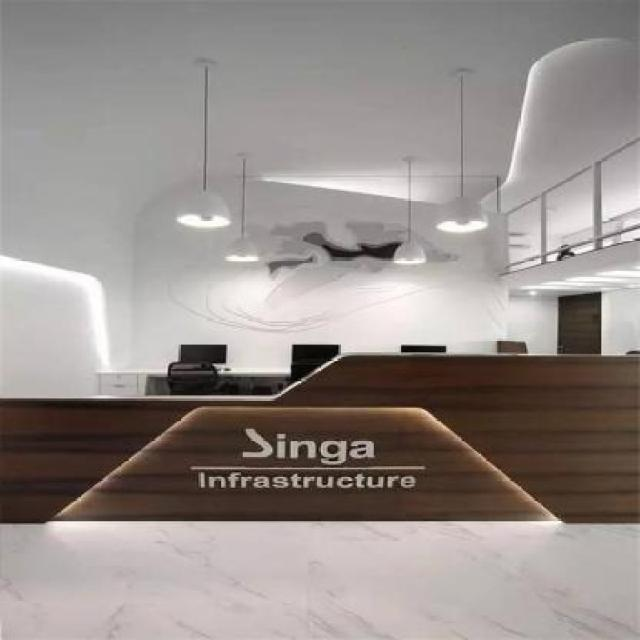frontdesk: (0, 324, 639, 528)
